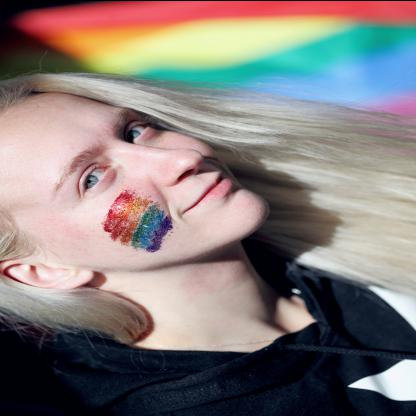Eye: (71, 159, 118, 200), (122, 120, 159, 142)
Mouth: (173, 169, 236, 218)
Nose: (119, 142, 208, 186)
